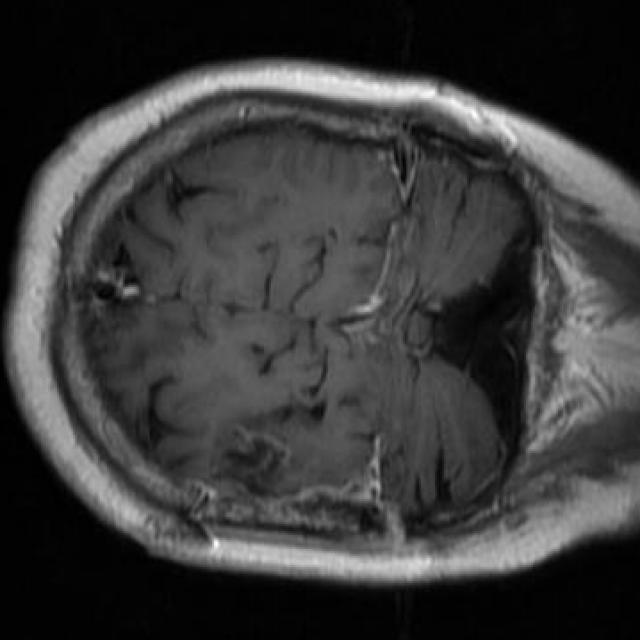glioma: (209, 430, 289, 508)
